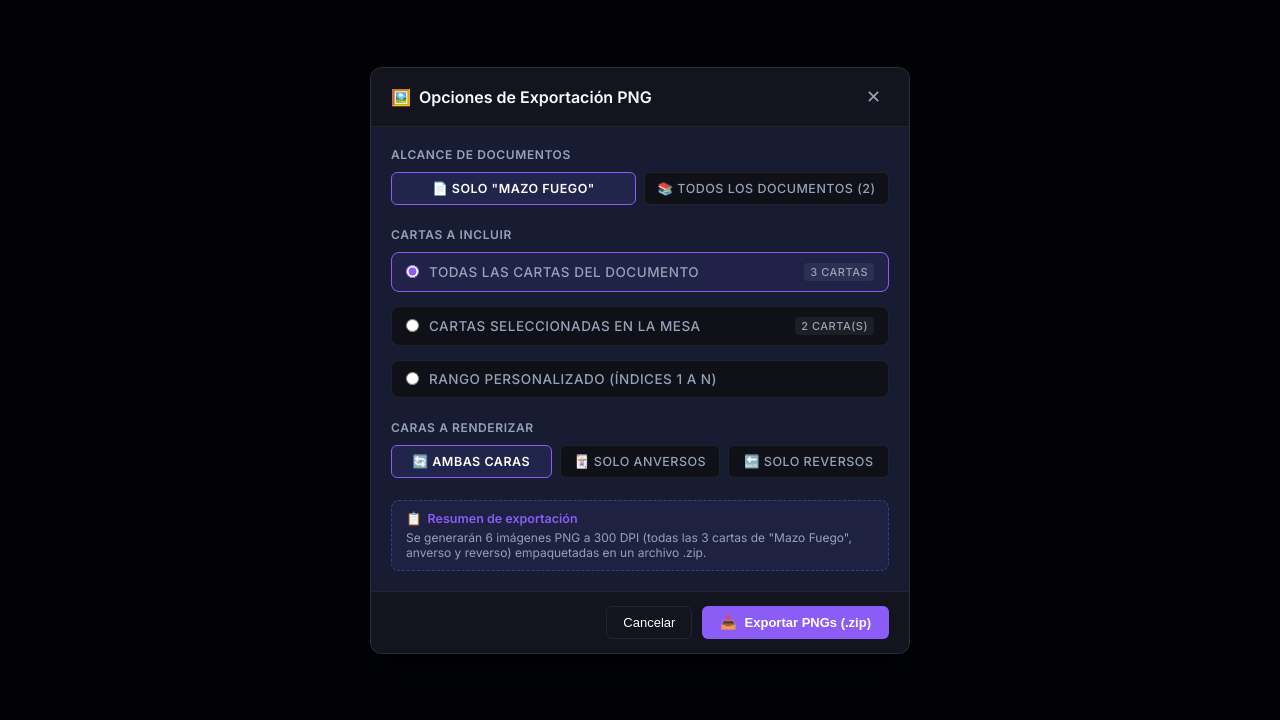
it: ExportPngModal Component (SRS-092) › oculta las opciones de cartas individuales cuando se selecciona 'Todos los documentos'
expect the text "Cartas a Incluir" is shown: met, box [391, 226, 512, 242]
Click the radio button labelled "📚 Todos los Documentos (2)" at x=766, y=188, box [644, 172, 889, 204]
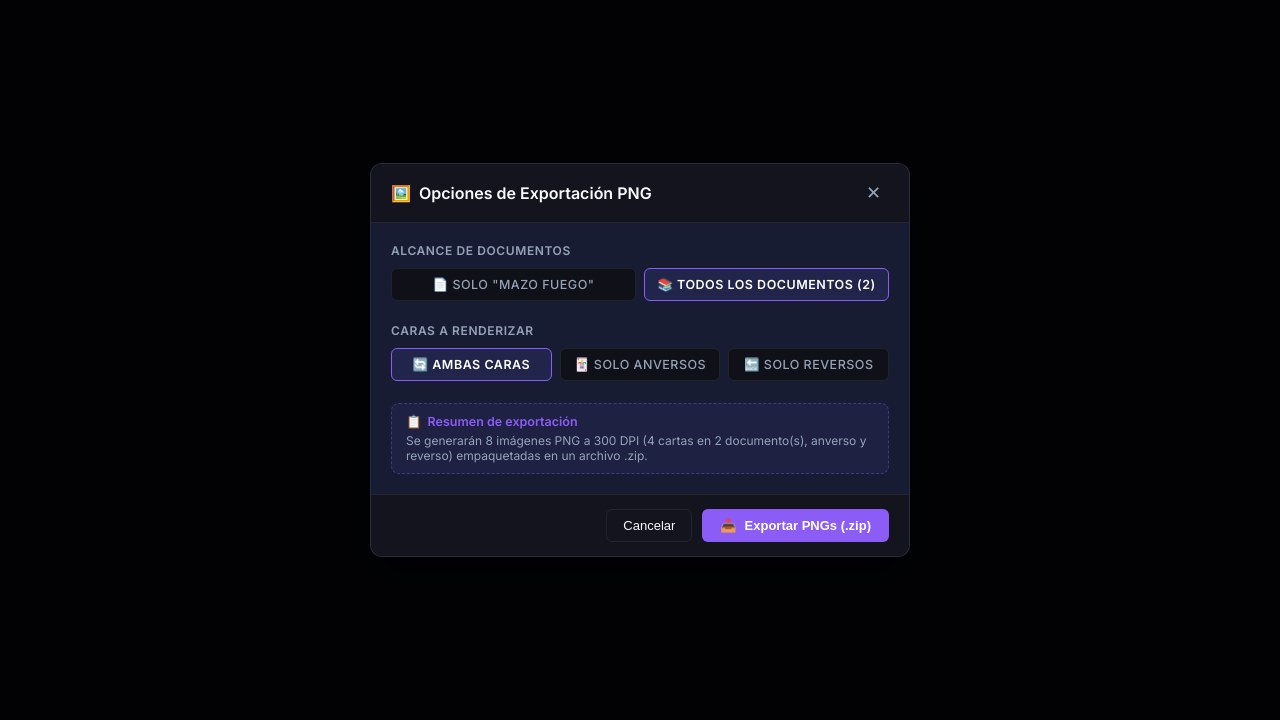
expect the text "Cartas a Incluir" is gone: met
